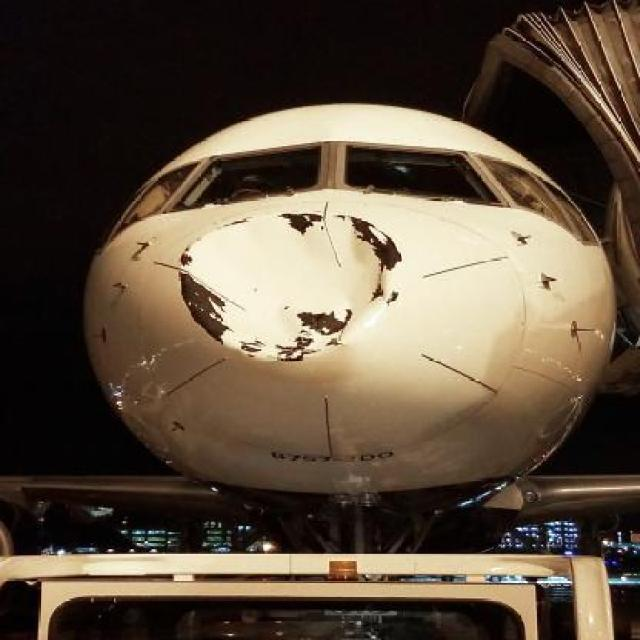dent: (177, 213, 404, 358)
